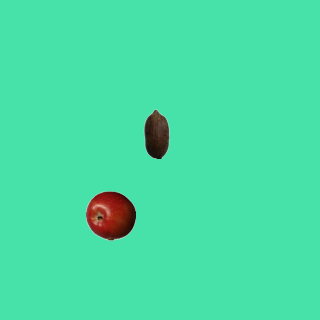Apple Braeburn: (85, 190, 135, 240)
Nut Pecan: (131, 108, 181, 158)
